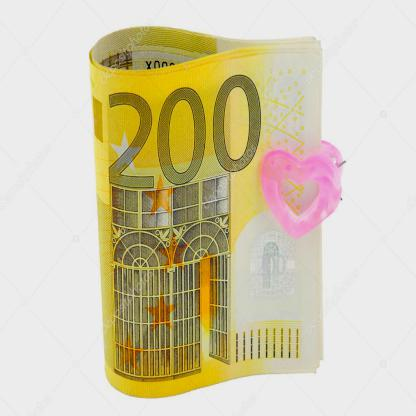euro_banknote: (33, 112, 380, 342)
